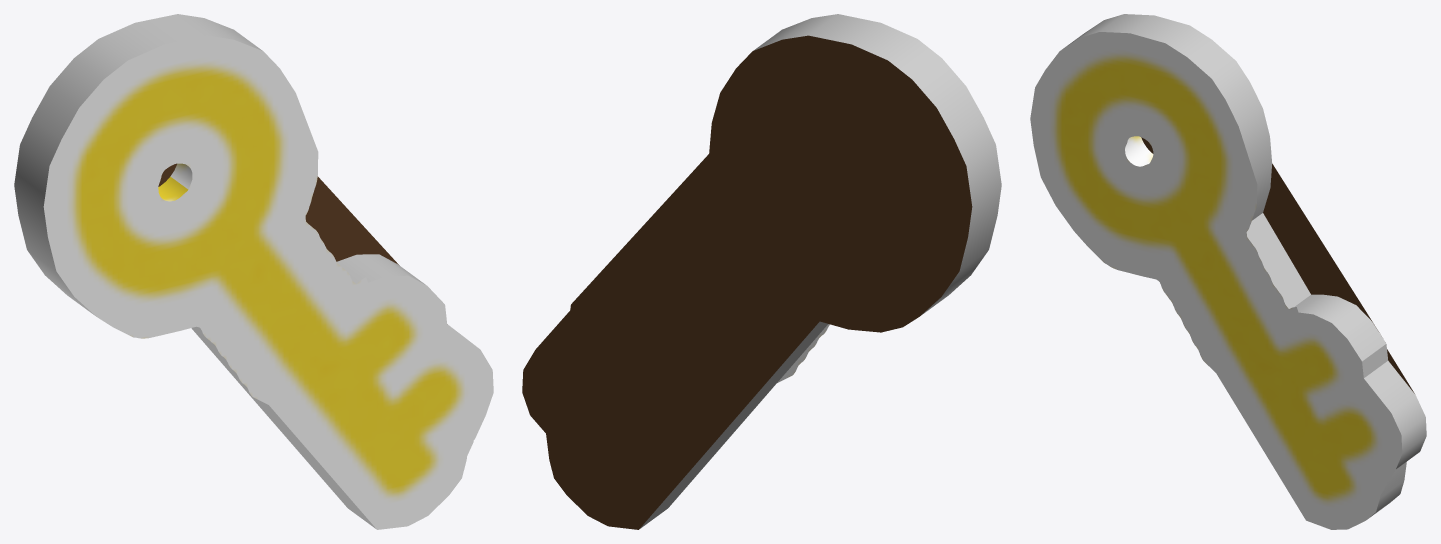
File: keyPickup.fbx
3 renders of one model, left to right at view 1: azimuth 30°, elevation 25°; view 2: azimuth 150°, elevation 25°; view 3: azimuth 330°, elevation 25°, orthographic. The views are drawn at different scales.
Parts seen in each view (by area): view 1: key; view 2: key; view 3: key.
Boxes of the visible parts, x1=… form: key: x1=14, y1=14, x2=493, y2=529; key: x1=522, y1=14, x2=1001, y2=529; key: x1=1030, y1=14, x2=1426, y2=529.
Size of the model in its own units: 40.53 by 46.59 by 4.6.
